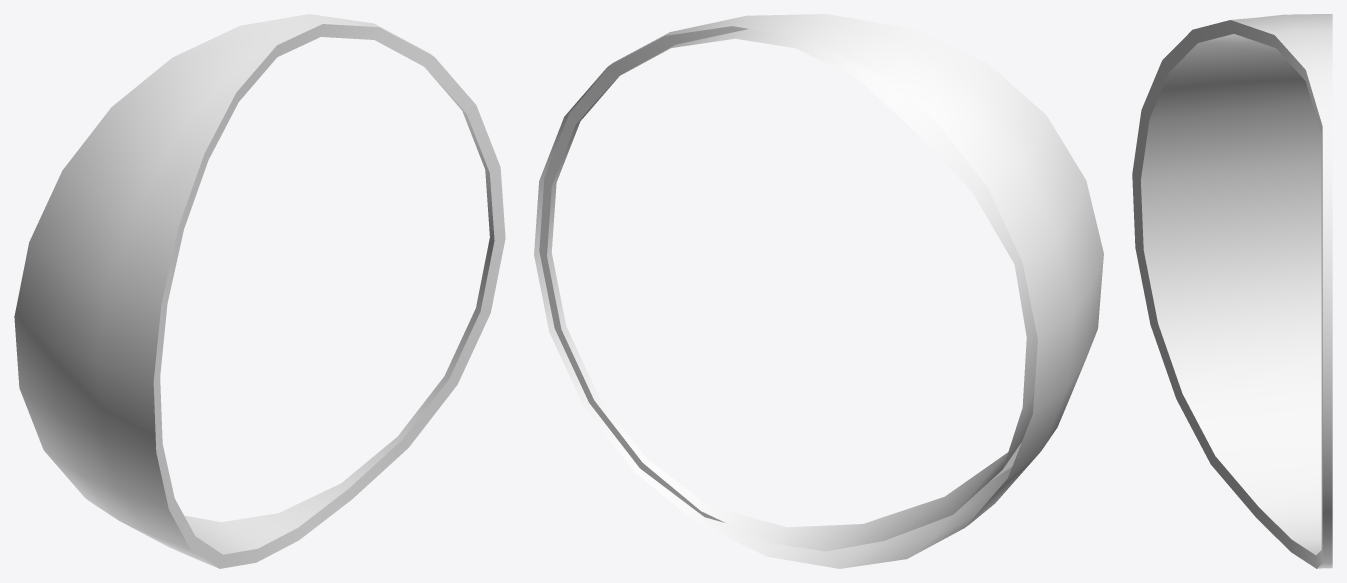
File: RShoulderPitch.dae
The picture shows the model from 3 angles, left to right: view 1: azimuth 30°, elevation 25°; view 2: azimuth 150°, elevation 25°; view 3: azimuth 270°, elevation 25°; orthographic projection. The views are drawn at different scales.
Parts seen in each view (by area): view 1: RShoulderPitch; view 2: RShoulderPitch; view 3: RShoulderPitch.
Part boxes in pixels (bbox=[...]): RShoulderPitch: bbox=[14, 14, 505, 568]; RShoulderPitch: bbox=[534, 14, 1103, 568]; RShoulderPitch: bbox=[1132, 14, 1332, 568].
Size of the model in its own units: 0.6598 by 0.2384 by 0.6598.
Materials: 1 (1 with a texture image).
